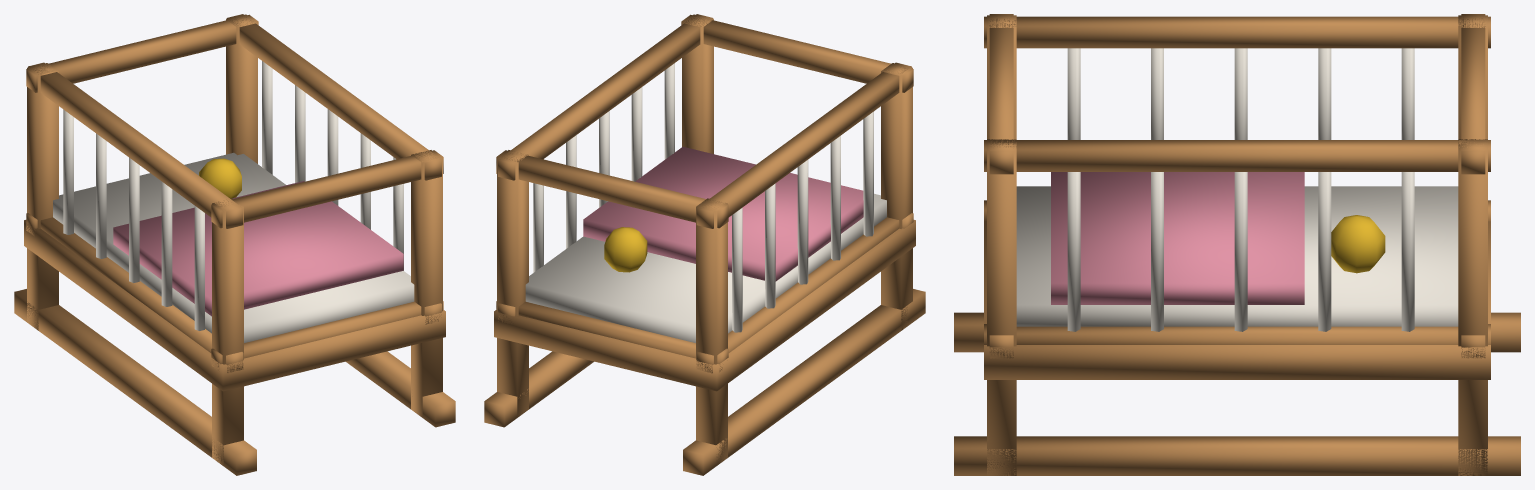
Rendered from crib.glb.
3 views of the same model, side by side, from view 1: azimuth 30°, elevation 25°; view 2: azimuth 150°, elevation 25°; view 3: azimuth 270°, elevation 25° (orthographic). The views are drawn at different scales.
Visible parts, largest first — view 1: crib; view 2: crib; view 3: crib.
Boxes of the visible parts, x1,y1,x2,y2 form: crib: (14, 14, 455, 475); crib: (484, 14, 925, 475); crib: (954, 14, 1520, 475).
Size of the model in its own units: 0.55 by 0.6 by 0.95.
